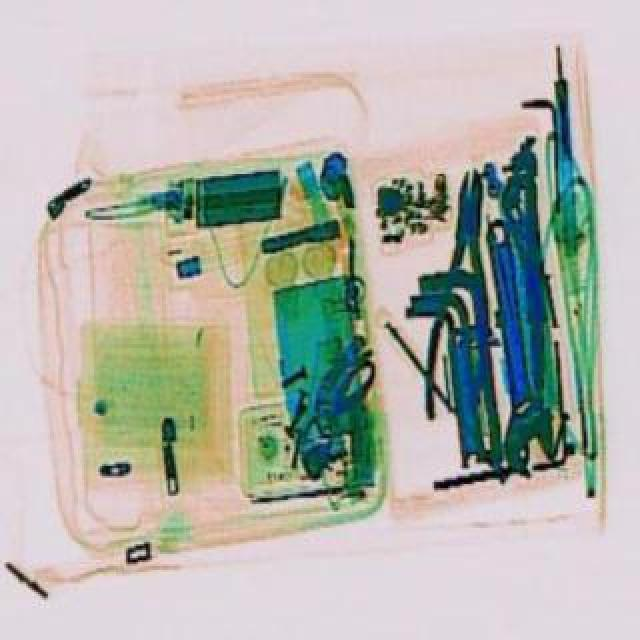scissors: (470, 210, 558, 470)
wrench: (420, 166, 496, 420)
